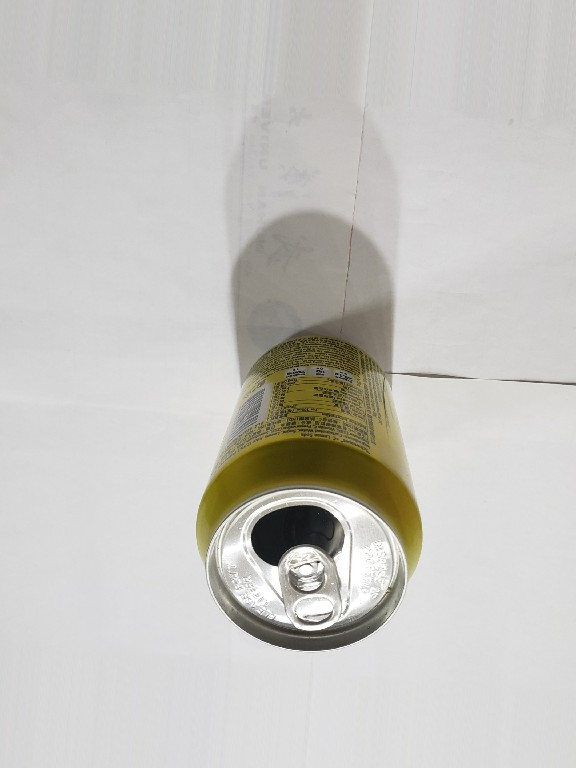can: (188, 331, 429, 655)
